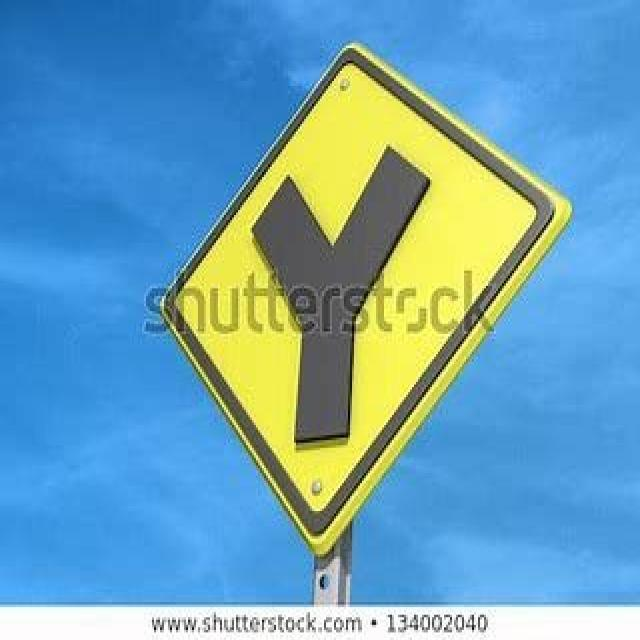y intersection: (166, 41, 560, 536)
